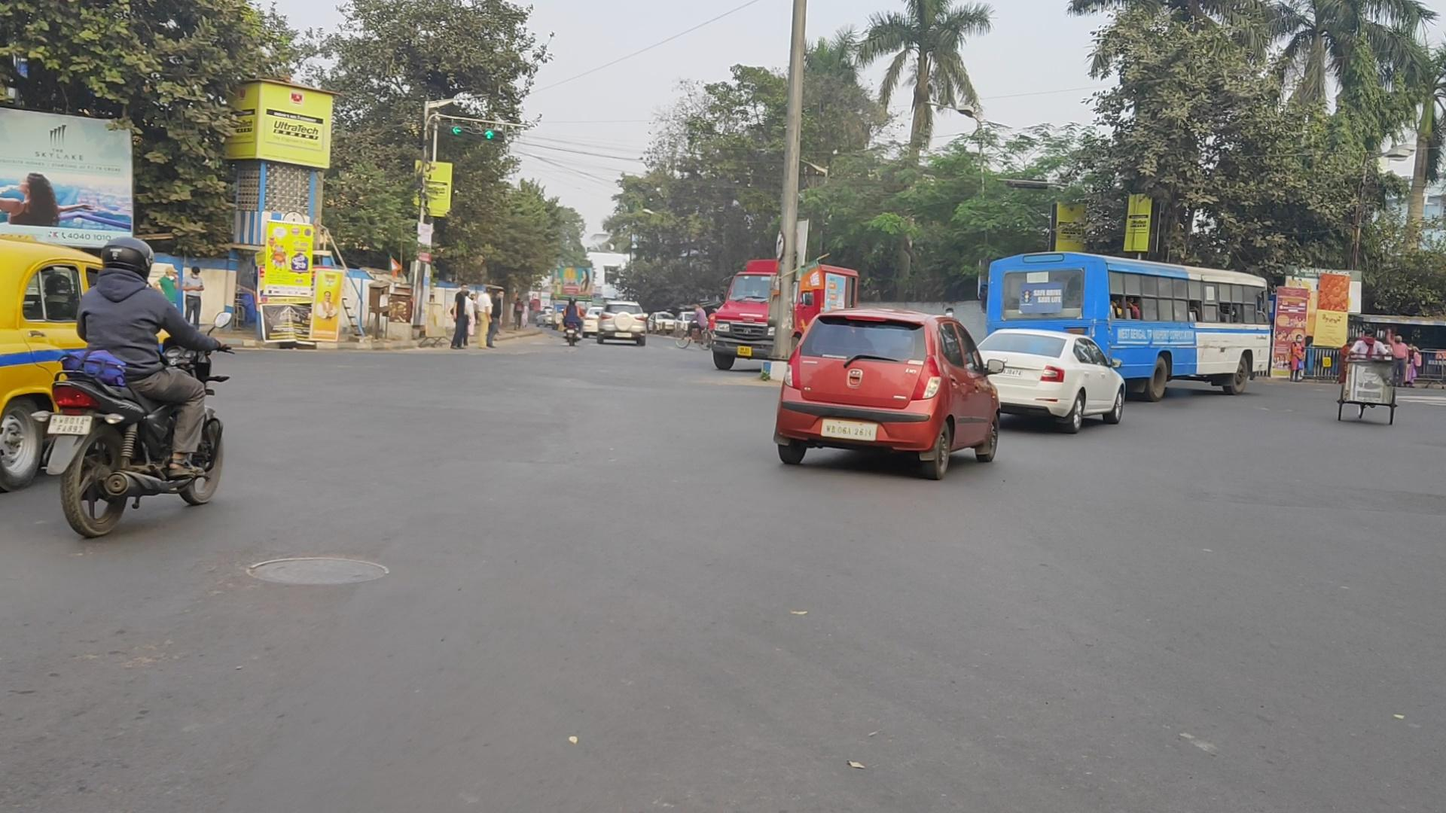Bus: (985, 251, 1271, 402)
bike: (29, 236, 233, 538), (560, 297, 587, 347)
car: (1, 236, 182, 504), (773, 308, 1000, 480), (973, 327, 1126, 434), (596, 301, 648, 347)
truck: (710, 258, 859, 371)
